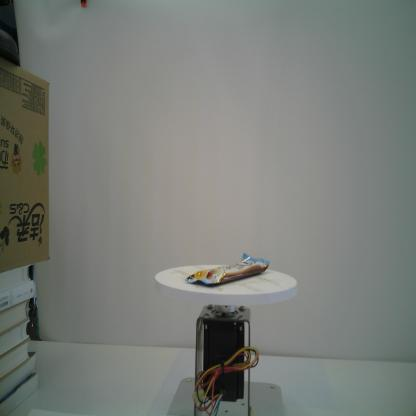Chocolate: (186, 253, 270, 284)
